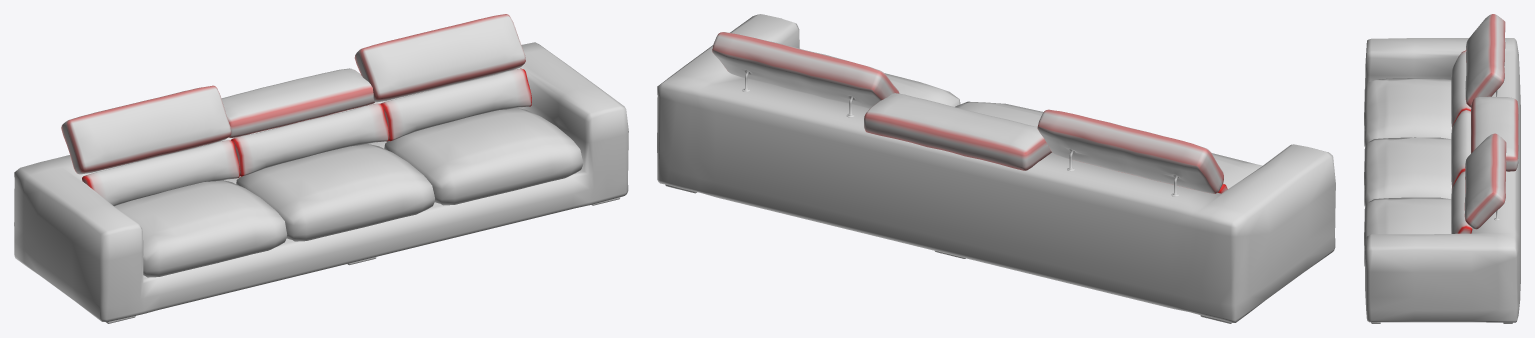
File: Sofa.FBX
The picture shows the model from 3 angles, left to right: view 1: azimuth 30°, elevation 25°; view 2: azimuth 150°, elevation 25°; view 3: azimuth 270°, elevation 25°; orthographic projection. The views are drawn at different scales.
Parts seen in each view (by area): view 1: Sofa; view 2: Sofa; view 3: Sofa.
Boxes of the visible parts, x1,y1,x2,y2 form: Sofa: (14,14,628,323); Sofa: (657,14,1335,323); Sofa: (1364,14,1520,323).
Size of the model in its own units: 3.43 by 0.8813 by 1.06.
